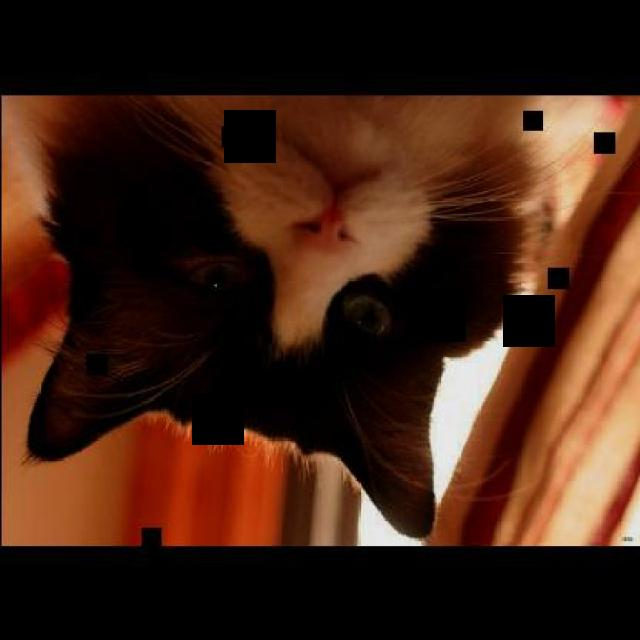unauthorized: (1, 92, 638, 540)
